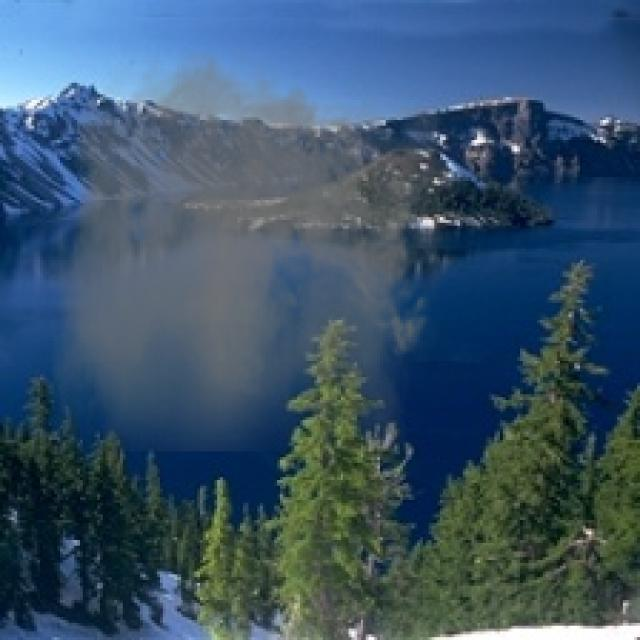Smoke: (51, 37, 440, 452)
